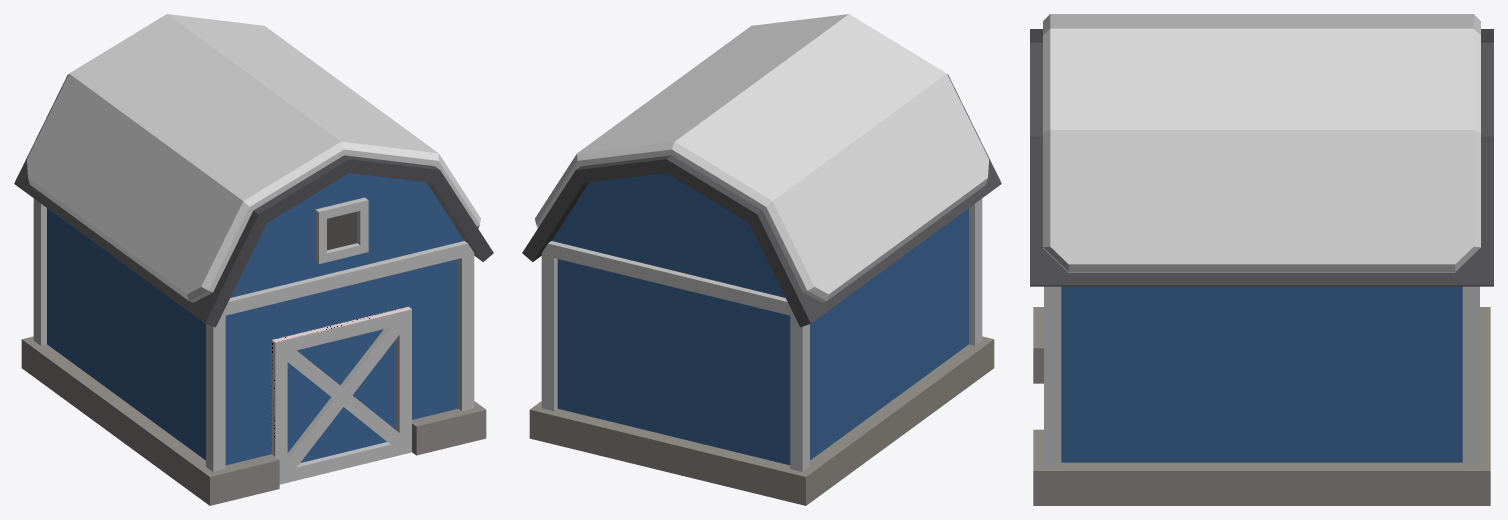
File: Barn_Snowy.fbx
3 renders of one model, left to right at view 1: azimuth 30°, elevation 25°; view 2: azimuth 150°, elevation 25°; view 3: azimuth 270°, elevation 25°, orthographic. The views are drawn at different scales.
Parts seen in each view (by area): view 1: Barn_Snowy; view 2: Barn_Snowy; view 3: Barn_Snowy.
Boxes of the visible parts, <box> form: Barn_Snowy: <box>14,14,493,505</box>; Barn_Snowy: <box>522,14,1001,505</box>; Barn_Snowy: <box>1030,14,1493,505</box>.
Size of the model in its own units: 4.24 by 4.5 by 4.79.
